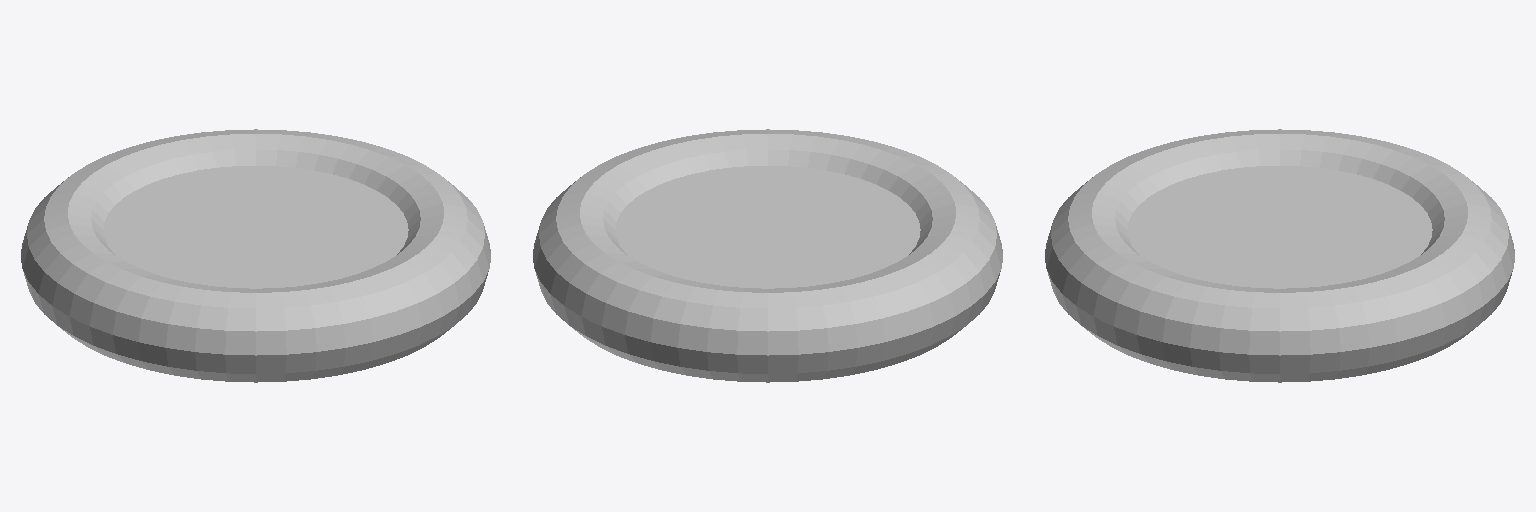
Rendered from coin.obj.
3 renders of one model, left to right at view 1: azimuth 30°, elevation 25°; view 2: azimuth 150°, elevation 25°; view 3: azimuth 270°, elevation 25°, orthographic.
Bounding box in the file's own units: 2.5 × 0.5 × 2.5.